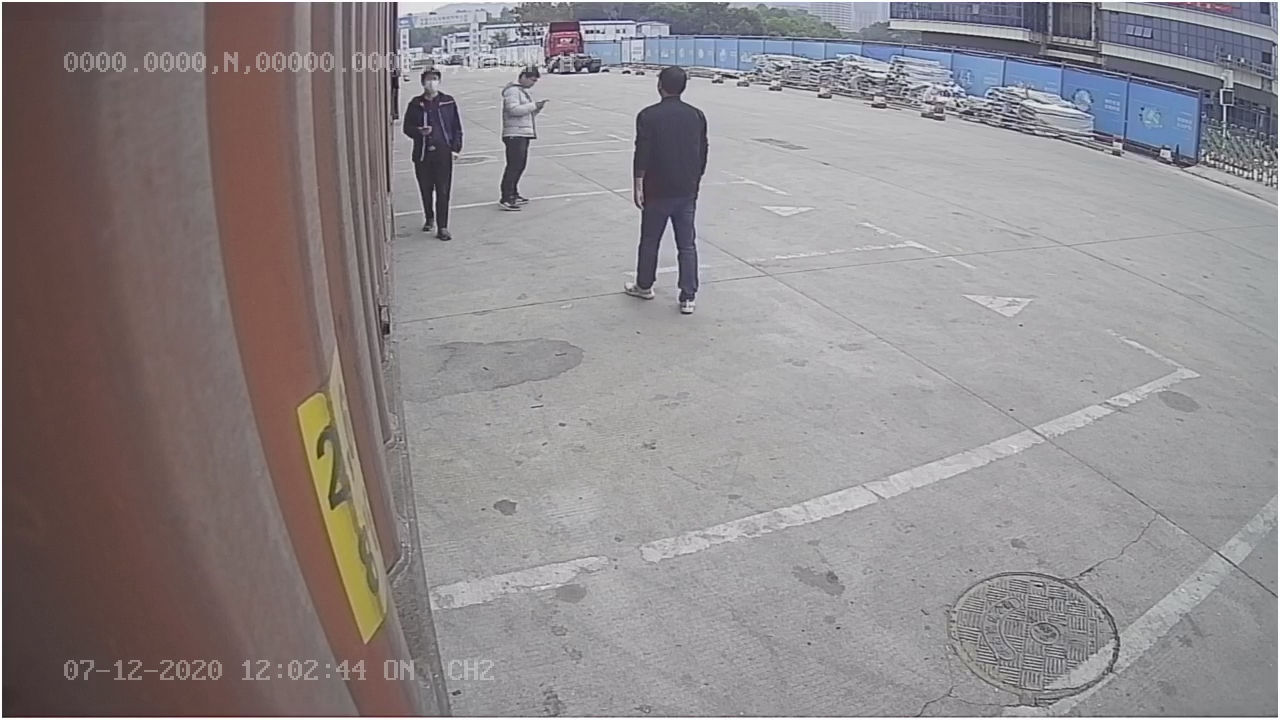person: (624, 66, 710, 317)
